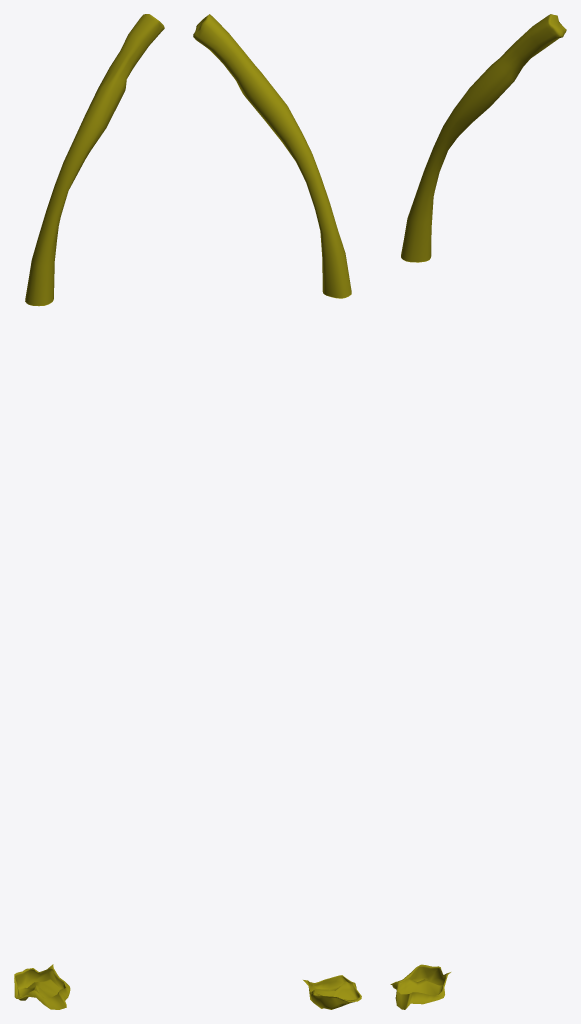
File: pear3.obj
The picture shows the model from 3 angles, left to right: view 1: azimuth 30°, elevation 25°; view 2: azimuth 150°, elevation 25°; view 3: azimuth 330°, elevation 25°; orthographic projection. The views are drawn at different scales.
Visible parts, largest first — view 1: pear.002_Cube.002; view 2: pear.002_Cube.002; view 3: pear.002_Cube.002.
Boxes of the visible parts, box(x1,y1,x2,y2) form: pear.002_Cube.002: box(14, 14, 164, 1009); pear.002_Cube.002: box(193, 14, 361, 1009); pear.002_Cube.002: box(390, 14, 566, 1009).
Bounding box in the file's own units: 0.9498 × 5.57 × 0.385.
